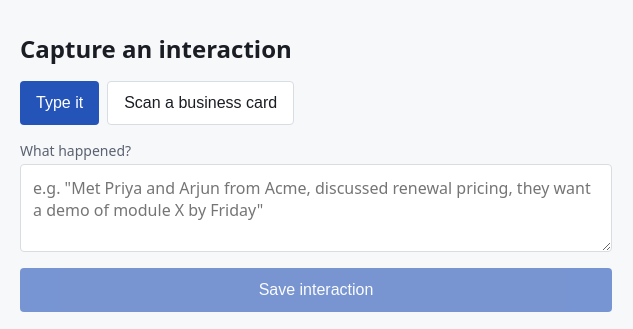
CapturePage › shows a matched result banner with extracted attendees and commitments on success
Type "met Priya and Arjun from Acme, demo by Friday" into the text box labelled "What happened?" at (316, 208), box 20,164 -> 612,252
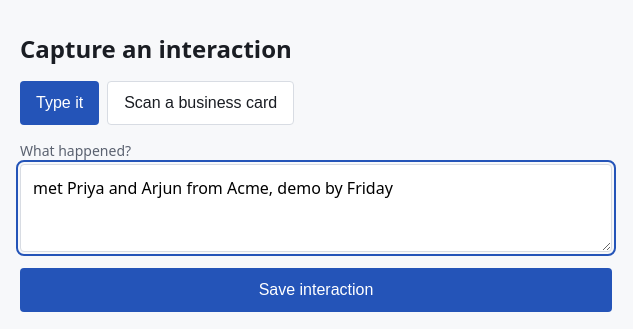
Click the button "Save interaction" at (316, 290), box 20,268 -> 612,312
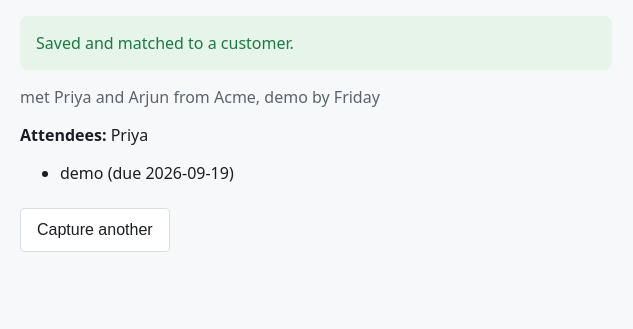
Result: the text "Saved and matched to a customer." is shown at 20,16 -> 612,70
Result: the text "met Priya and Arjun from Acme, demo by Friday" is shown at 20,86 -> 380,108
